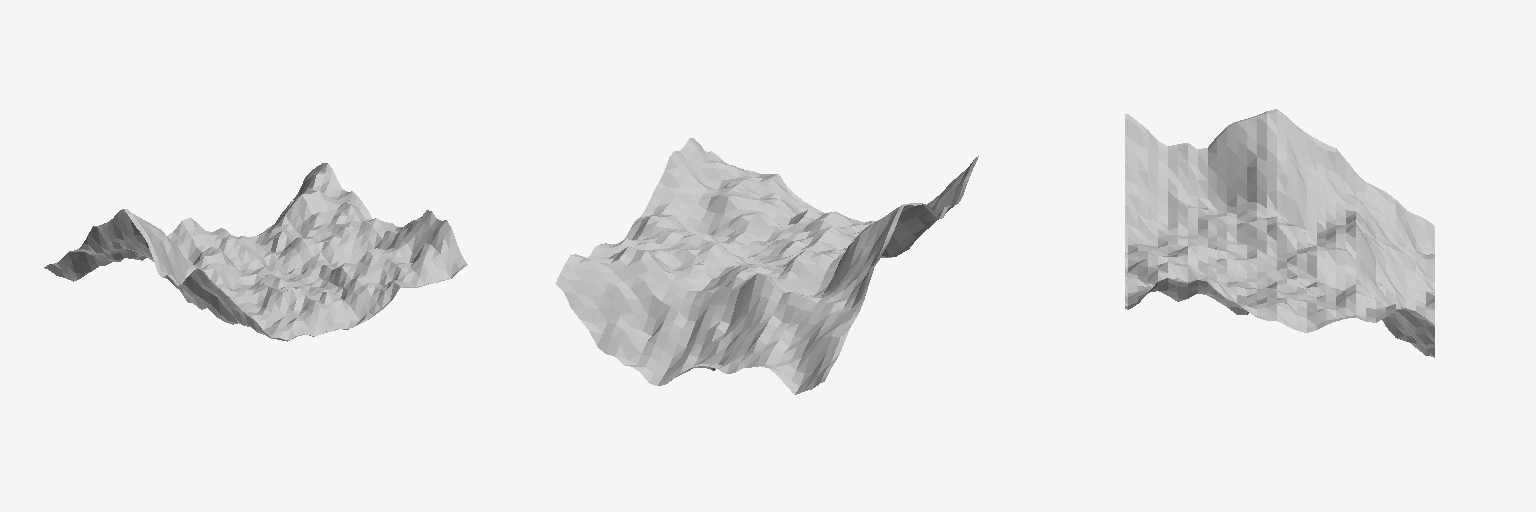
File: terrain_0_4.obj
3 renders of one model, left to right at view 1: azimuth 30°, elevation 25°; view 2: azimuth 150°, elevation 25°; view 3: azimuth 270°, elevation 25°, orthographic.
Visible parts, largest first — view 1: terrain_0_4_Plane.028; view 2: terrain_0_4_Plane.028; view 3: terrain_0_4_Plane.028.
Part boxes in pixels (left/top/right/bottom): terrain_0_4_Plane.028: left=44, top=163, right=467, bottom=341; terrain_0_4_Plane.028: left=556, top=138, right=978, bottom=394; terrain_0_4_Plane.028: left=1125, top=109, right=1434, bottom=357.
Bounding box in the file's own units: 32 × 18.49 × 32.